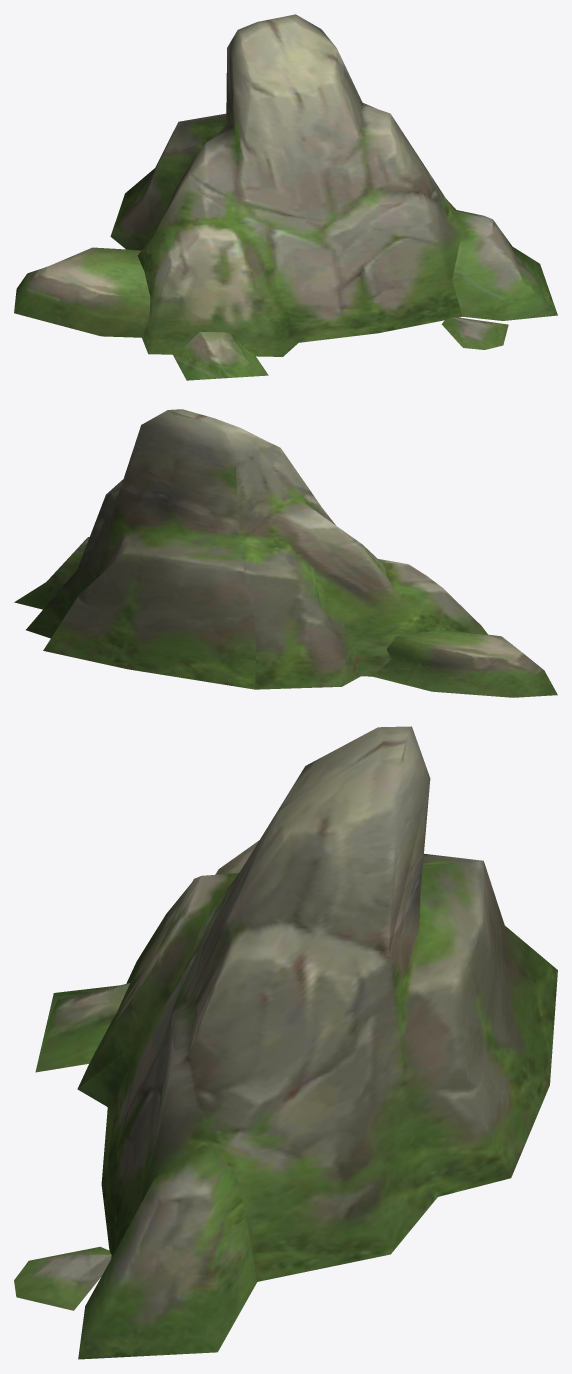
File: shitou_15.FBX
3 renders of one model, top to bottom at view 1: azimuth 30°, elevation 25°; view 2: azimuth 150°, elevation 25°; view 3: azimuth 270°, elevation 25°, orthographic. The views are drawn at different scales.
Parts seen in each view (by area): view 1: shitou_15; view 2: shitou_15; view 3: shitou_15.
Boxes of the visible parts, x1,y1,x2,y2 form: shitou_15: (14,14,557,380); shitou_15: (14,409,557,697); shitou_15: (14,726,557,1359).
Bounding box in the file's own units: 213 × 110 × 118.
